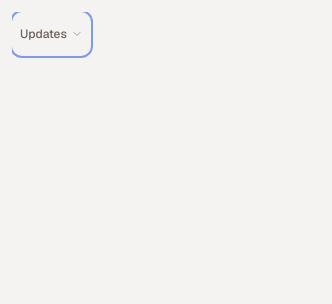
Test: AreaBadge › shows the area and saves a new one optimistically through the state API
Press Enter in the button with aria-label "Area: Updates. Change area", box [12,12,91,56]
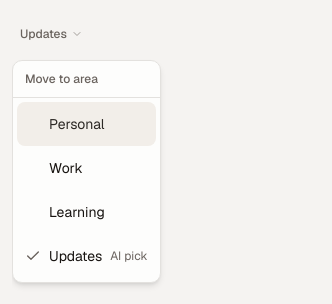
Result: the menu item "Updates AI pick" is shown at [25,247,148,265]
Click the menu item "Personal": (86, 124) [17,102,156,146]
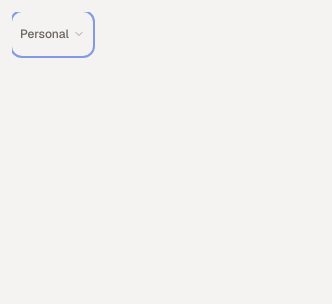
Result: the button with aria-label "Area: Personal. Change area" is shown at [12,12,93,56]
